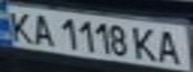1: (54, 16, 78, 51), (90, 20, 112, 55), (75, 18, 96, 52)
8: (109, 21, 130, 57)
A: (154, 27, 187, 65), (27, 11, 57, 47)
K: (3, 8, 39, 44), (130, 25, 160, 62)
